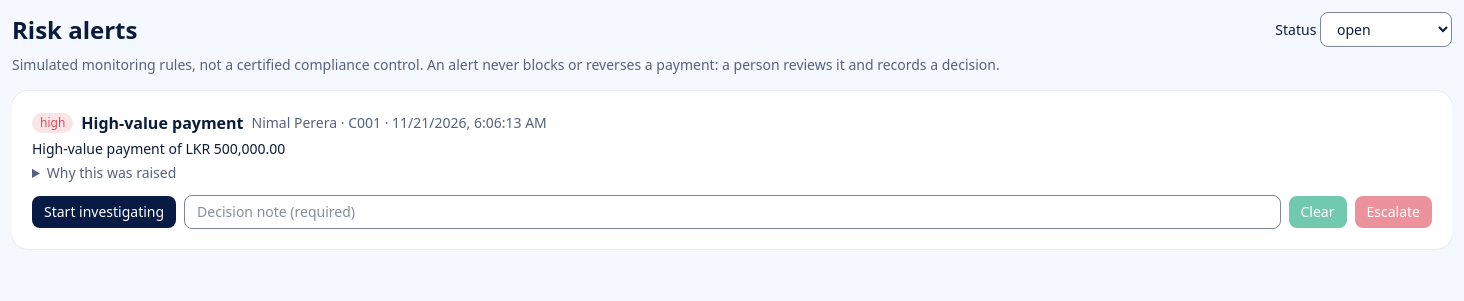
Test: risk alerts › shows API refusals
Check: the text "High-value payment" is shown, box x1=81 y1=111 x2=244 y2=135
Type "Looks fine to me" into the field labelled "Decision note (required)" at coordinates (732, 212), box x1=184 y1=195 x2=1280 y2=229
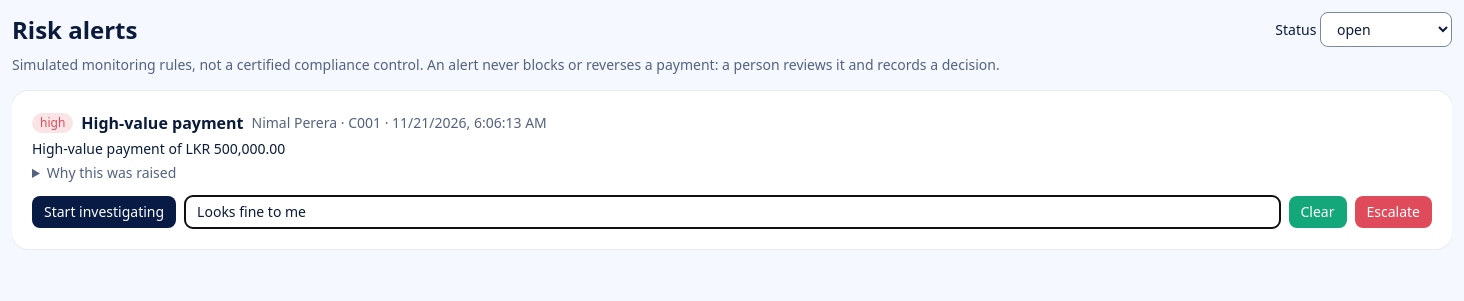
Click the button "Escalate" at coordinates (1393, 212), box x1=1354 y1=196 x2=1432 y2=228
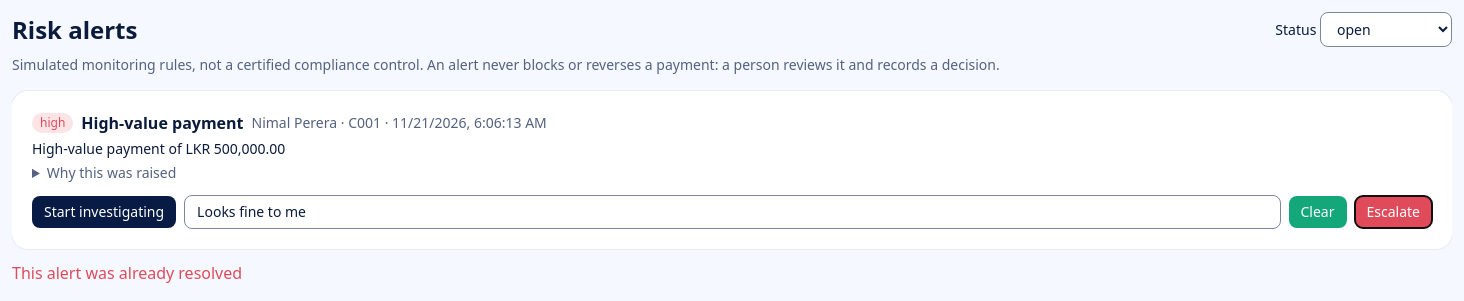
Check: the message shows "already resolved", box x1=12 y1=262 x2=242 y2=284
